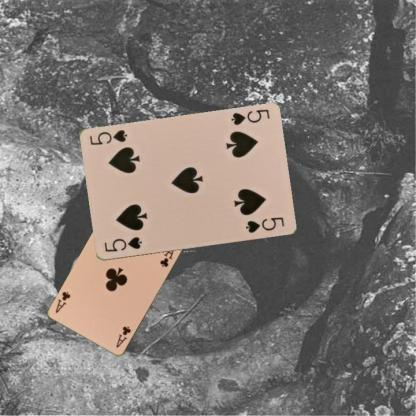5s: (228, 107, 271, 126), (101, 235, 143, 254)
Ac: (114, 324, 132, 349)
